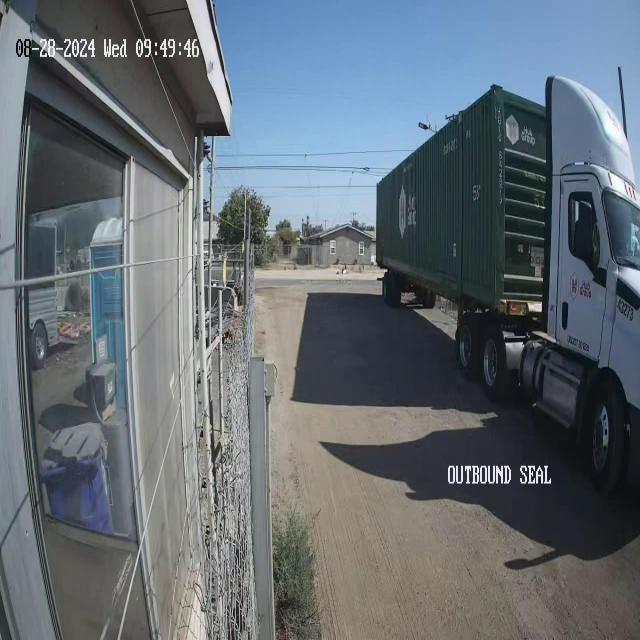CONTAINER: (376, 85, 549, 320)
